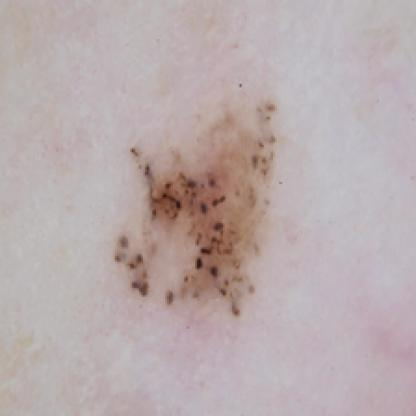benign: (110, 91, 278, 321)
